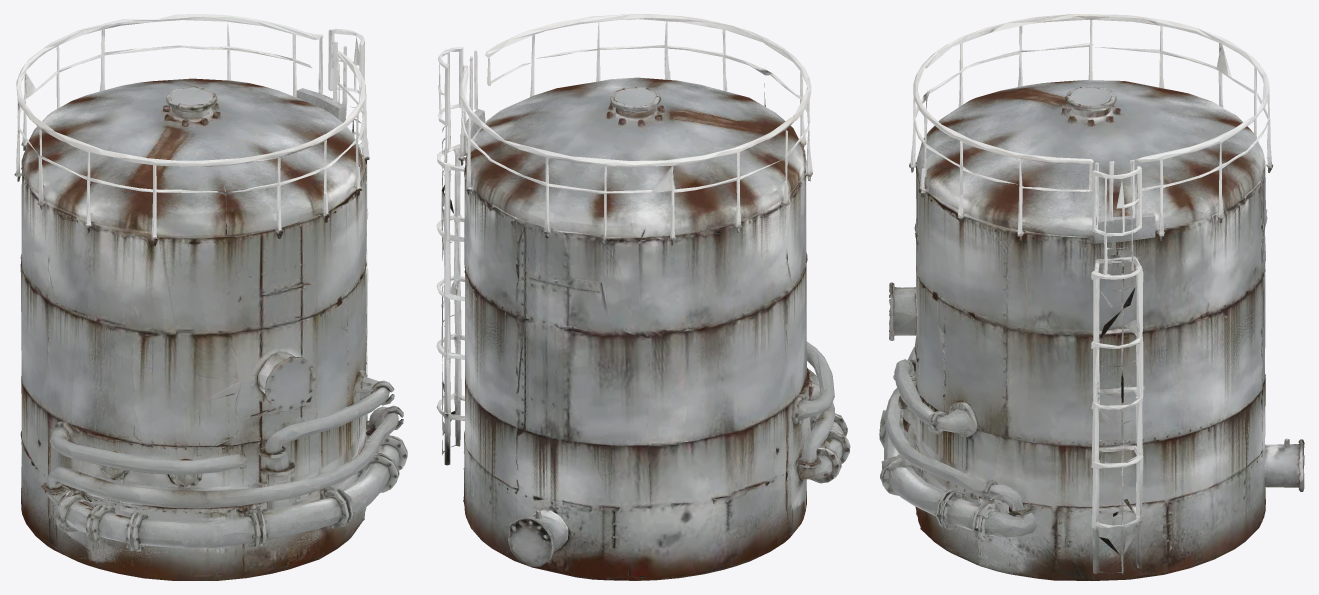
Rendered from tank_vertical.glb.
3 renders of one model, left to right at view 1: azimuth 30°, elevation 25°; view 2: azimuth 150°, elevation 25°; view 3: azimuth 270°, elevation 25°, orthographic.
Visible parts, largest first — view 1: Mesh_0; view 2: Mesh_0; view 3: Mesh_0.
Boxes of the visible parts, box(x1,y1,x2,y2) form: Mesh_0: box(14, 14, 407, 580); Mesh_0: box(436, 14, 850, 580); Mesh_0: box(879, 14, 1304, 580).
Bounding box in the file's own units: 1.67 × 1.9 × 1.73.
1 material, 1 textured.
